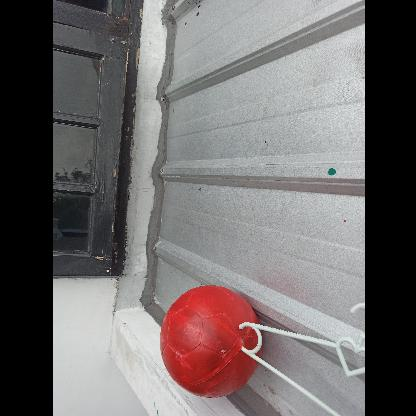red_ball: (152, 286, 264, 396)
